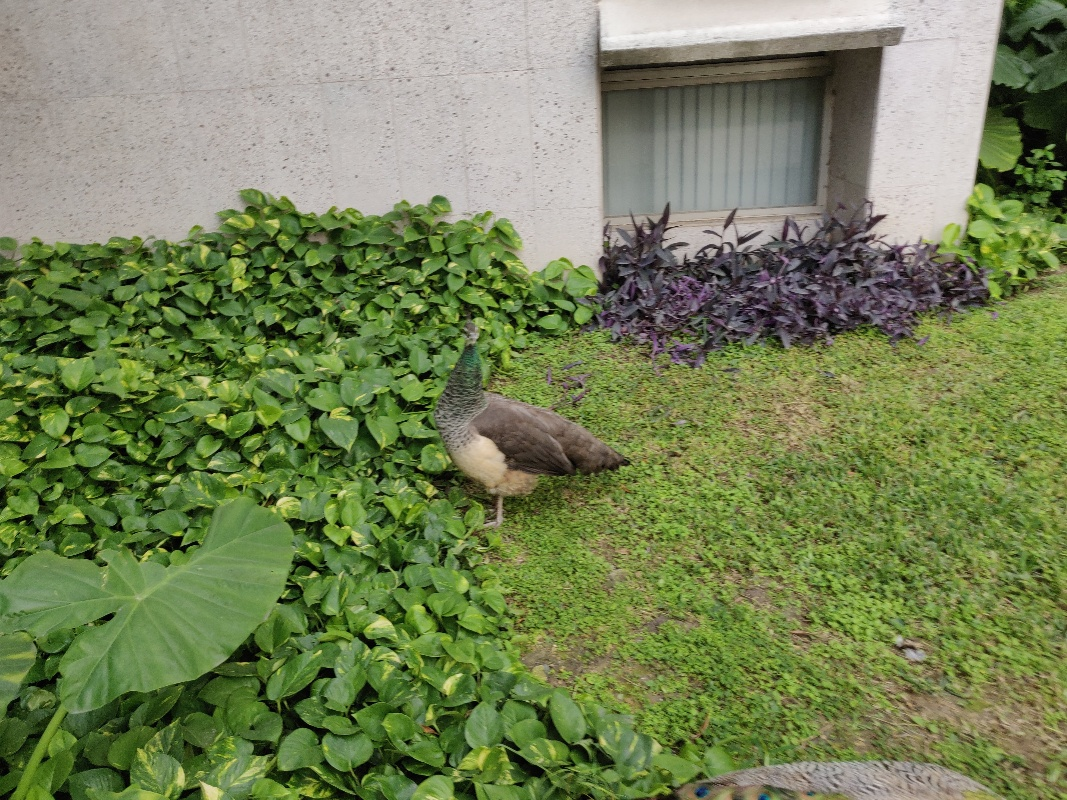pavoreal: (450, 321, 559, 521)
